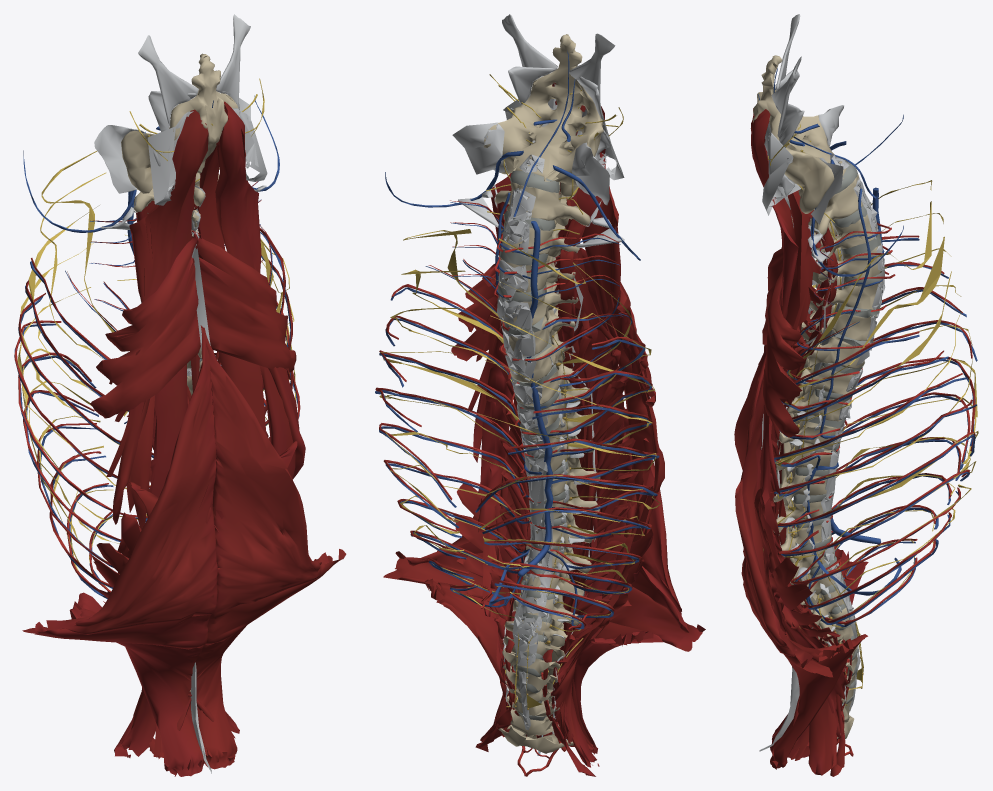
The model's file is back.glb.
The picture shows the model from 3 angles, left to right: view 1: azimuth 30°, elevation 25°; view 2: azimuth 150°, elevation 25°; view 3: azimuth 270°, elevation 25°; orthographic projection. The views are drawn at different scales.
Visible parts, largest first — view 1: FJ1520, FJ1520M, FJ1541, FJ1541M, FJ1527, FJ1521, FJ1527M, FJ1961, FJ3393, ZA_Intercostal_nerves_r, FJ1535, FJ1521M (+17 smaller); view 2: ZA_Anterior_longitudinal_ligament, FJ3393, FJ1994, FJ1961, FJ1527, FJ1985, FJ1975, ZA_Intercostal_nerves_r, FJ1528M, ZA_Intercostal_nerves_l, FJ1463, FJ1520 (+44 smaller); view 3: FJ1520M, FJ1975, FJ1985, ZA_Intercostal_nerves_l, FJ3393, FJ1527M, FJ1541M, FJ1521M, ZA_Anterior_longitudinal_ligament, FJ1535M, FJ1961, FJ1994 (+39 smaller).
Part boxes in pixels (x1=…): FJ1520: x1=46, y1=327, x2=217, y2=634; FJ1520M: x1=200, y1=325, x2=329, y2=613; FJ1541: x1=90, y1=230, x2=200, y2=418; FJ1541M: x1=195, y1=232, x2=296, y2=372; FJ1527: x1=106, y1=109, x2=208, y2=524; FJ1521: x1=69, y1=592, x2=204, y2=776; FJ1527M: x1=215, y1=101, x2=305, y2=479; FJ1961: x1=14, y1=258, x2=153, y2=587; FJ3393: x1=121, y1=53, x2=239, y2=193; ZA_Intercostal_nerves_r: x1=17, y1=151, x2=150, y2=588; FJ1535: x1=148, y1=175, x2=195, y2=497; FJ1521M: x1=195, y1=625, x2=246, y2=769; ZA_Anterior_longitudinal_ligament: x1=497, y1=154, x2=553, y2=729; FJ3393: x1=483, y1=34, x2=603, y2=196; FJ1994: x1=475, y1=313, x2=659, y2=629; FJ1961: x1=478, y1=312, x2=659, y2=591; FJ1527: x1=577, y1=105, x2=664, y2=506; FJ1985: x1=375, y1=266, x2=530, y2=607; FJ1975: x1=375, y1=265, x2=531, y2=573; ZA_Intercostal_nerves_r: x1=478, y1=238, x2=660, y2=631; FJ1528M: x1=478, y1=326, x2=511, y2=616; ZA_Intercostal_nerves_l: x1=379, y1=229, x2=530, y2=617; FJ1463: x1=565, y1=327, x2=638, y2=654; FJ1520: x1=571, y1=340, x2=689, y2=632; FJ1520M: x1=735, y1=353, x2=812, y2=664; FJ1975: x1=770, y1=322, x2=975, y2=607; FJ1985: x1=774, y1=321, x2=976, y2=626; ZA_Intercostal_nerves_l: x1=775, y1=201, x2=978, y2=627; FJ3393: x1=753, y1=55, x2=846, y2=213; FJ1527M: x1=751, y1=109, x2=798, y2=536; FJ1541M: x1=763, y1=270, x2=805, y2=437; FJ1521M: x1=770, y1=634, x2=867, y2=769; ZA_Anterior_longitudinal_ligament: x1=820, y1=154, x2=885, y2=710; FJ1535M: x1=760, y1=150, x2=834, y2=641; FJ1961: x1=816, y1=235, x2=975, y2=569; FJ1994: x1=791, y1=238, x2=977, y2=578.
Bounding box in the file's own units: 329 × 745 × 229.
